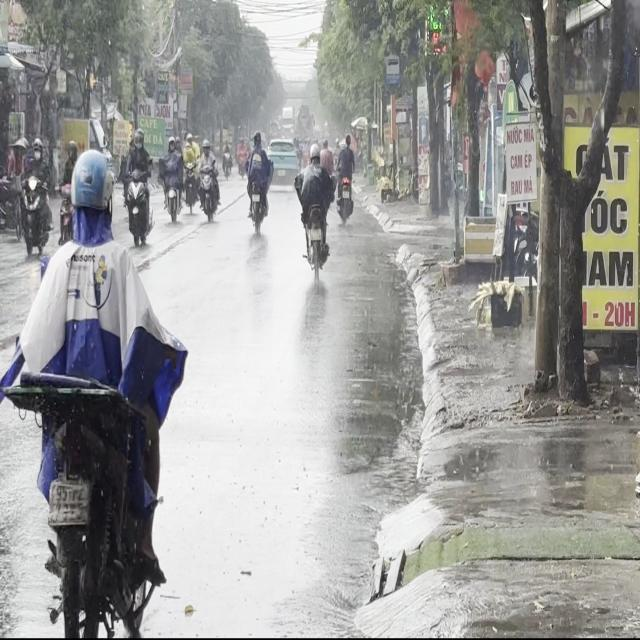helmet: (68, 146, 112, 231)
licenseplate: (0, 135, 188, 635)
nohelmet: (50, 481, 88, 522)
